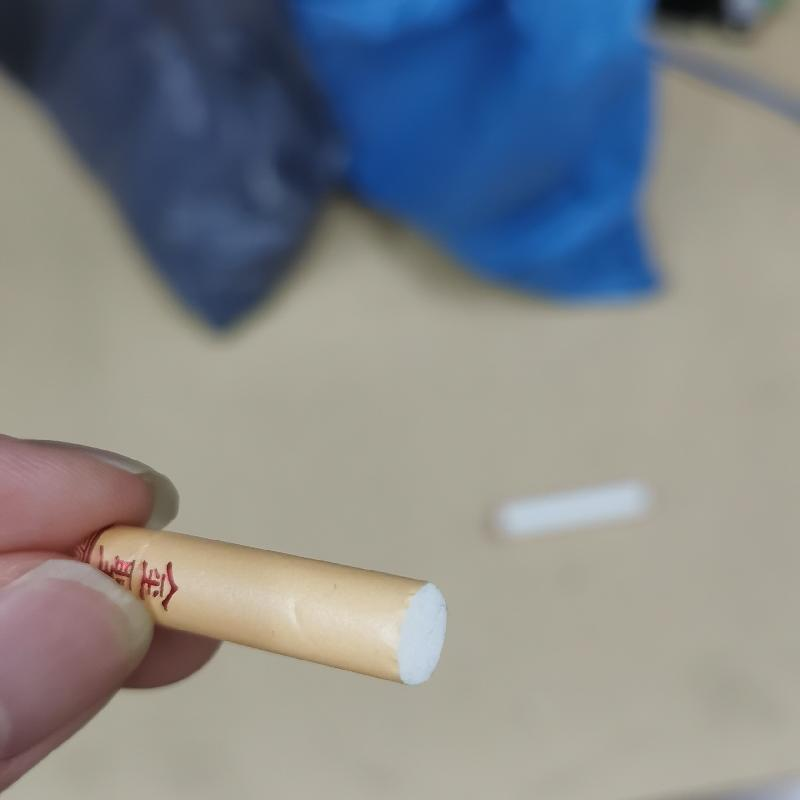cigarette: (54, 514, 455, 695)
